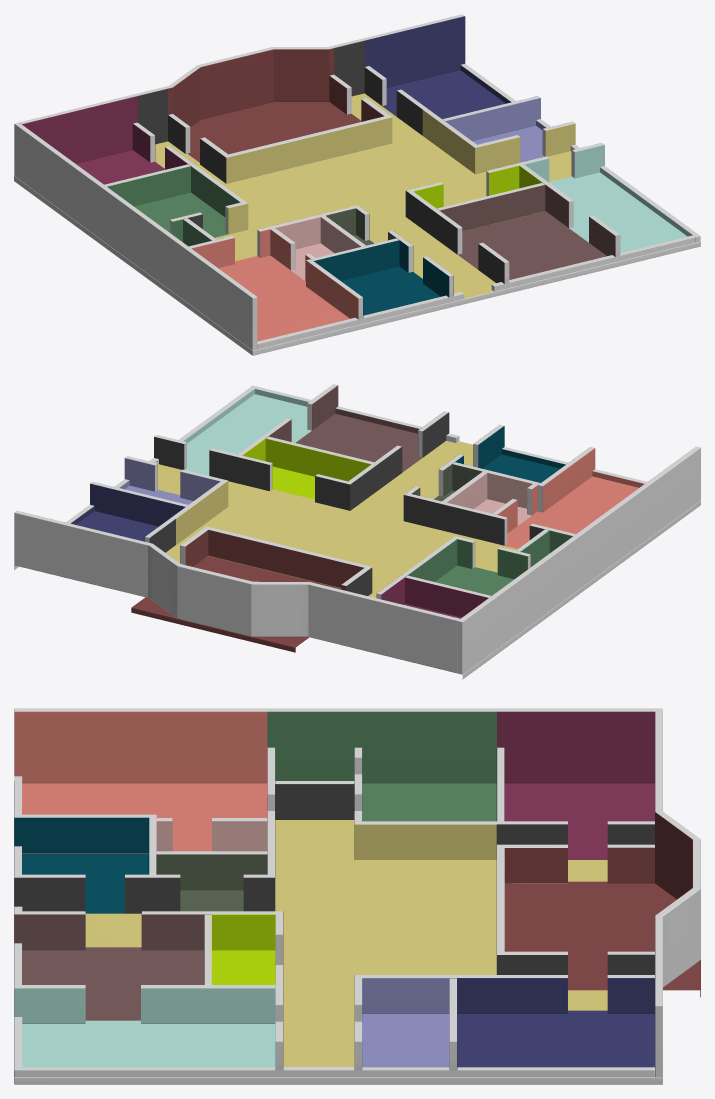
The model's file is SM_House.fbx.
The picture shows the model from 3 angles, top to bottom: view 1: azimuth 30°, elevation 25°; view 2: azimuth 150°, elevation 25°; view 3: azimuth 270°, elevation 25°; orthographic projection. The views are drawn at different scales.
Parts seen in each view (by area): view 1: house; view 2: house; view 3: house.
Boxes of the visible parts, left/top/right/bottom form: house: left=14, top=14, right=700, bottom=355; house: left=14, top=384, right=700, bottom=679; house: left=14, top=708, right=700, bottom=1084.
Bounding box in the file's own units: 8904 × 1100 × 8686.
